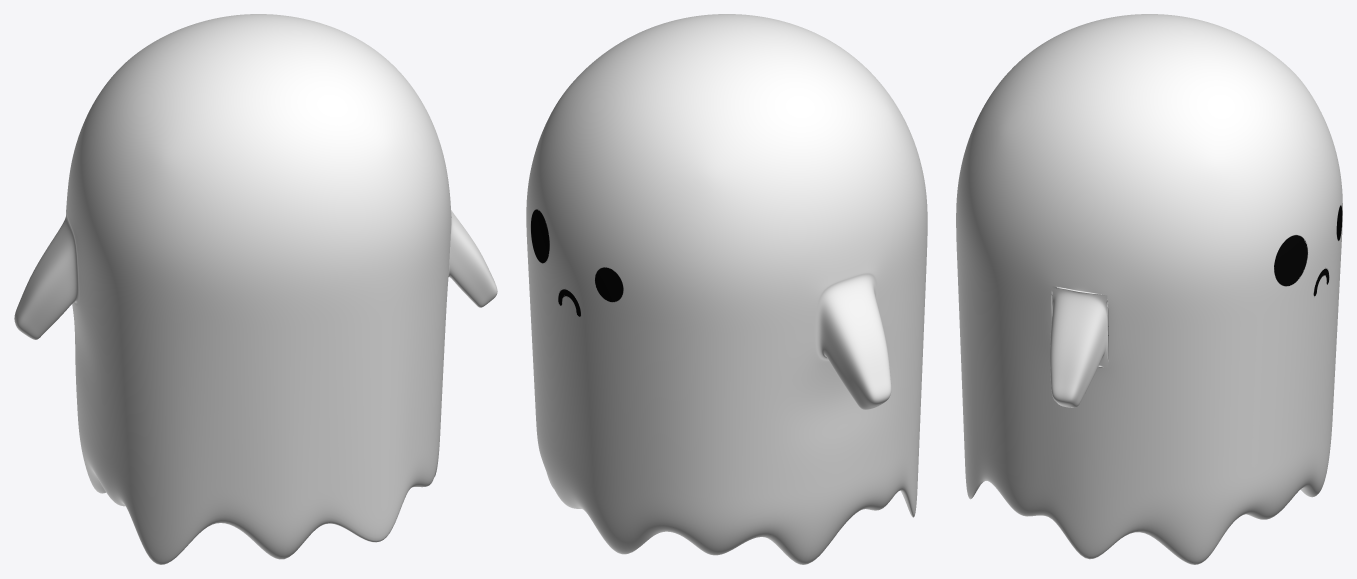
Rendered from ghost.fbx.
The picture shows the model from 3 angles, left to right: view 1: azimuth 30°, elevation 25°; view 2: azimuth 150°, elevation 25°; view 3: azimuth 270°, elevation 25°; orthographic projection. The views are drawn at different scales.
Visible parts, largest first — view 1: Cube; view 2: Cube; view 3: Cube.
Boxes of the visible parts, bbox=[...] form: Cube: bbox=[14, 14, 497, 564]; Cube: bbox=[526, 14, 927, 564]; Cube: bbox=[956, 14, 1342, 564].
Size of the model in its own units: 199 by 223 by 168.
Materials: 1 (1 with a texture image).
